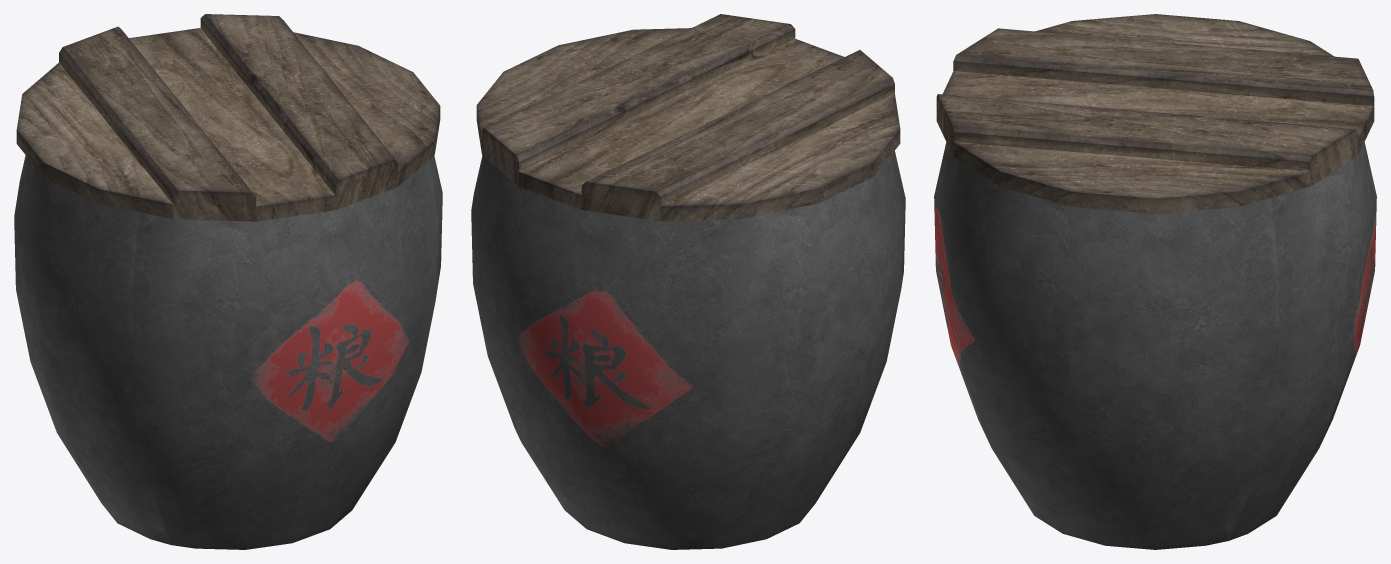
File: Tank_1.FBX
3 views of the same model, side by side, from view 1: azimuth 30°, elevation 25°; view 2: azimuth 150°, elevation 25°; view 3: azimuth 270°, elevation 25° (orthographic). The views are drawn at different scales.
Parts seen in each view (by area): view 1: Tank_1; view 2: Tank_1; view 3: Tank_1.
Part boxes in pixels (left/top/right/bottom): Tank_1: left=14, top=14, right=442, bottom=549; Tank_1: left=471, top=14, right=905, bottom=549; Tank_1: left=934, top=14, right=1376, bottom=549.
Bounding box in the file's own units: 46.55 × 46.69 × 46.55.
